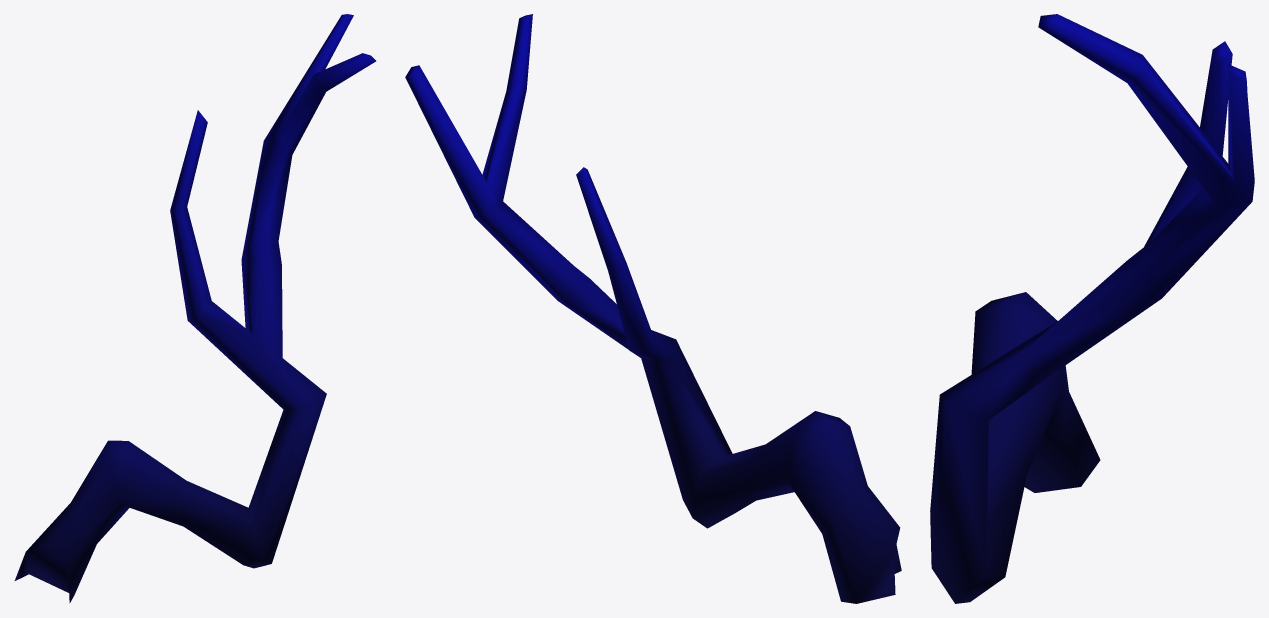
File: vine_03.fbx
3 views of the same model, side by side, from view 1: azimuth 30°, elevation 25°; view 2: azimuth 150°, elevation 25°; view 3: azimuth 270°, elevation 25° (orthographic). The views are drawn at different scales.
Parts seen in each view (by area): view 1: vine_03; view 2: vine_03; view 3: vine_03.
Part boxes in pixels (<box>): vine_03: <box>14,14,376,603</box>; vine_03: <box>405,14,901,603</box>; vine_03: <box>930,14,1254,603</box>.
Size of the model in its own units: 574 by 648 by 274.
